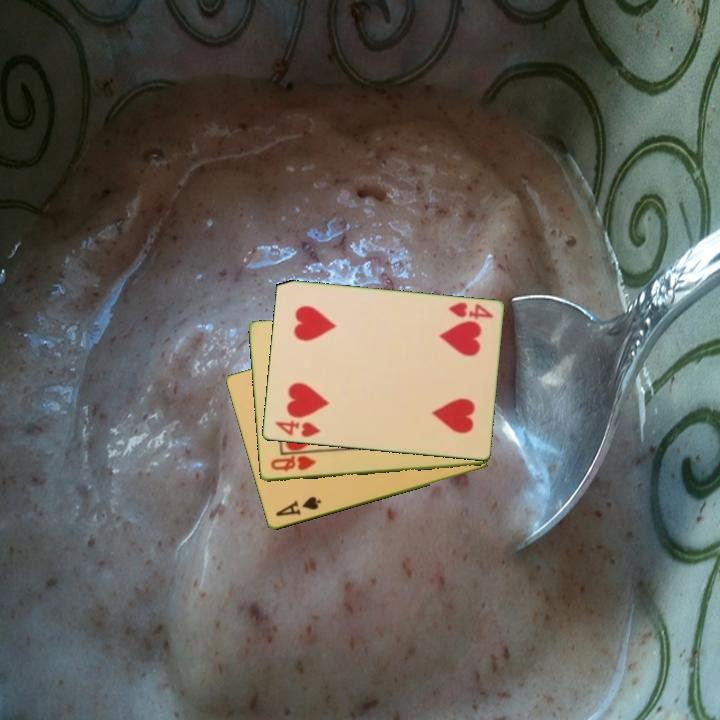4h: (271, 417, 323, 440), (445, 299, 495, 322)
As: (272, 493, 323, 520)
Qh: (267, 453, 319, 475)
